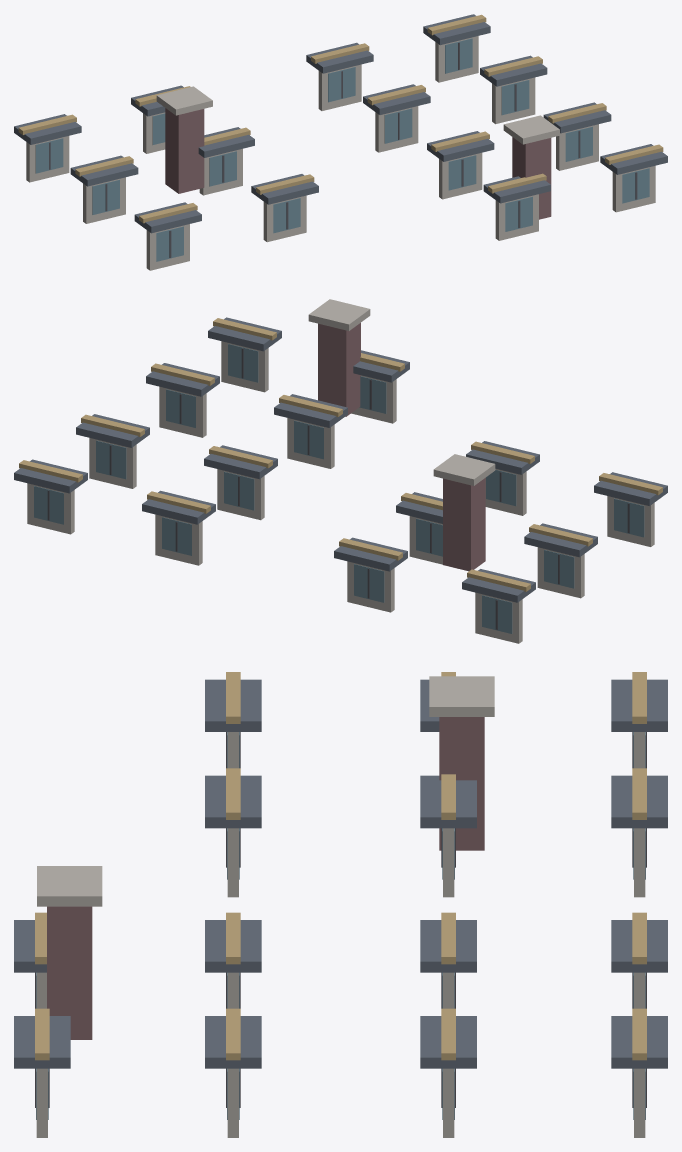
Rendered from roof_dormers.glb.
3 views of the same model, one above another, from view 1: azimuth 30°, elevation 25°; view 2: azimuth 150°, elevation 25°; view 3: azimuth 270°, elevation 25° (orthographic). The views are drawn at different scales.
Parts seen in each view (by area): view 1: ROOF-chimney0, ROOF-chimney1, ROOF-chimney0-cap, ROOF-chimney1-cap, ROOF-dormer8-gable-cap, ROOF-dormer4-gable-cap, ROOF-dormer3-gable-cap, ROOF-dormer6-gable-cap, ROOF-dormer7-gable-cap, ROOF-dormer13-gable-cap, ROOF-dormer1-gable-cap, ROOF-dormer5-gable-cap (+47 smaller); view 2: ROOF-chimney0, ROOF-chimney1, ROOF-chimney0-cap, ROOF-chimney1-cap, ROOF-dormer1-gable-cap, ROOF-dormer2-gable-cap, ROOF-dormer3-gable-cap, ROOF-dormer6-gable-cap, ROOF-dormer8-gable-cap, ROOF-dormer4-gable-cap, ROOF-dormer5-gable-cap, ROOF-dormer7-gable-cap (+46 smaller); view 3: ROOF-chimney1, ROOF-chimney0, ROOF-chimney0-cap, ROOF-chimney1-cap, ROOF-dormer10-gable-cap, ROOF-dormer12-gable-cap, ROOF-dormer1-gable-cap, ROOF-dormer2-gable-cap, ROOF-dormer3-gable-cap, ROOF-dormer4-gable-cap, ROOF-dormer5-gable-cap, ROOF-dormer6-gable-cap (+25 smaller).
Part boxes in pixels (x1,y1,x2,y2): ROOF-chimney0: (165,108,204,193); ROOF-chimney1: (512,137,551,219); ROOF-chimney0-cap: (156,86,212,115); ROOF-chimney1-cap: (503,115,559,144); ROOF-dormer8-gable-cap: (70,155,138,186); ROOF-dormer4-gable-cap: (363,84,430,114); ROOF-dormer3-gable-cap: (427,131,494,161); ROOF-dormer6-gable-cap: (423,14,490,45); ROOF-dormer7-gable-cap: (306,42,373,73); ROOF-dormer13-gable-cap: (14,114,81,144); ROOF-dormer1-gable-cap: (600,144,667,174); ROOF-dormer5-gable-cap: (480,55,547,86); ROOF-chimney0: (443,478,485,571); ROOF-chimney1: (318,323,360,416); ROOF-chimney0-cap: (433,454,495,485); ROOF-chimney1-cap: (308,299,370,330); ROOF-dormer1-gable-cap: (208,317,281,351); ROOF-dormer2-gable-cap: (146,363,219,396); ROOF-dormer3-gable-cap: (274,394,347,427); ROOF-dormer6-gable-cap: (14,459,87,493); ROOF-dormer8-gable-cap: (524,523,597,557); ROOF-dormer4-gable-cap: (204,445,277,479); ROOF-dormer5-gable-cap: (76,414,149,447); ROOF-dormer7-gable-cap: (142,490,215,524); ROOF-chimney1: (47,906,92,1039); ROOF-chimney0: (439,717,484,850); ROOF-chimney0-cap: (429,676,494,716); ROOF-chimney1-cap: (37,866,102,906); ROOF-dormer10-gable-cap: (205,775,261,828); ROOF-dormer12-gable-cap: (611,775,667,828); ROOF-dormer1-gable-cap: (14,1016,70,1068); ROOF-dormer2-gable-cap: (205,1016,261,1068); ROOF-dormer3-gable-cap: (205,920,261,972); ROOF-dormer4-gable-cap: (420,920,476,972); ROOF-dormer5-gable-cap: (420,1016,476,1068); ROOF-dormer6-gable-cap: (611,1016,667,1068).
Size of the model in its own units: 13.53 by 2.69 by 9.81.
